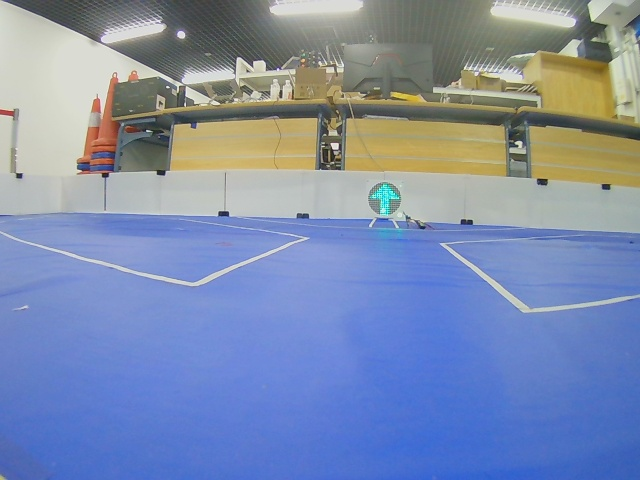straight_green: (368, 182, 401, 216)
